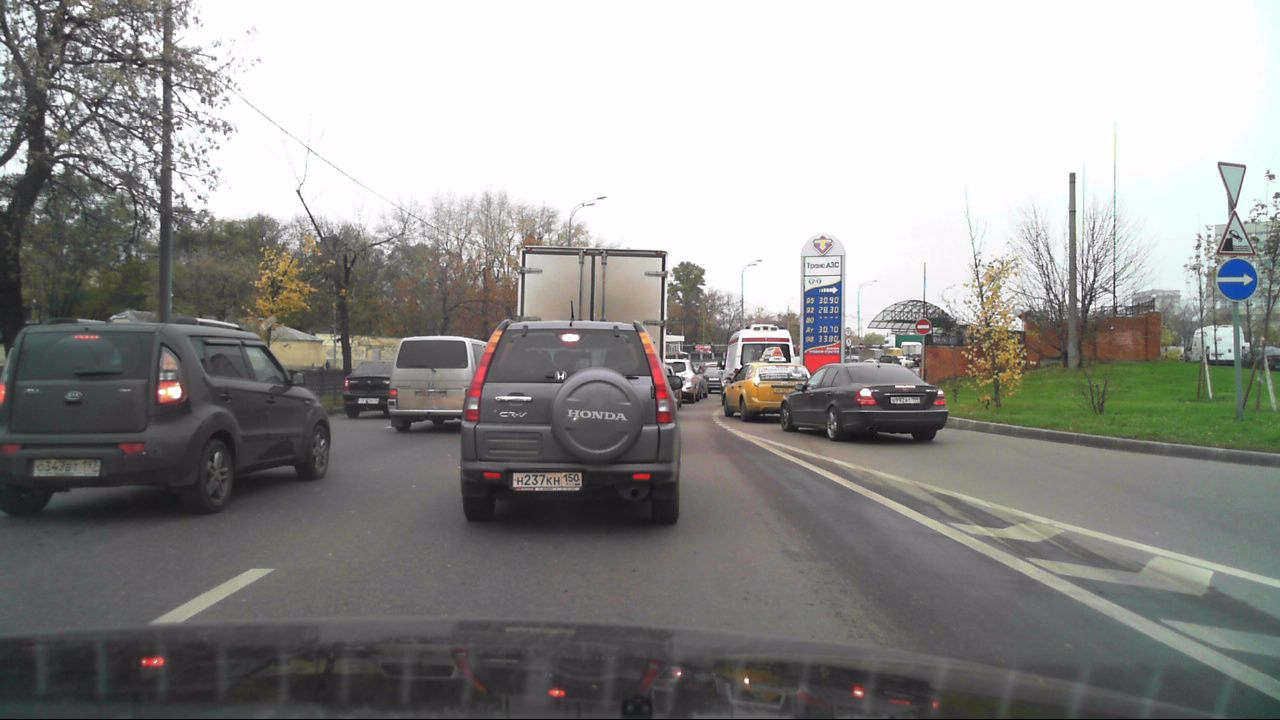Turn Right: (1215, 258, 1258, 301)
